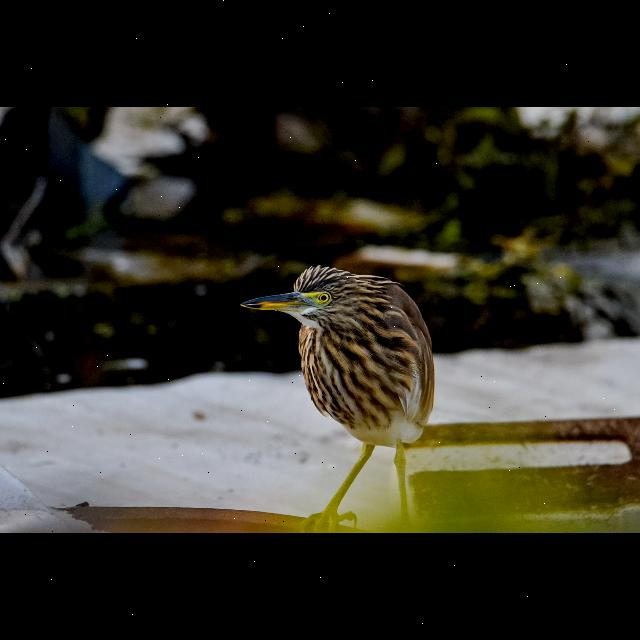heron: (242, 265, 432, 523)
